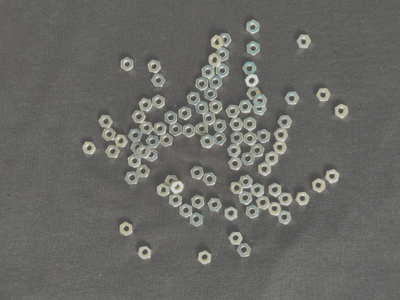nut: (325, 169, 340, 185), (335, 103, 349, 119), (296, 35, 312, 49), (316, 88, 331, 102), (285, 91, 300, 105), (295, 192, 310, 206), (258, 162, 272, 177), (278, 210, 292, 225), (246, 204, 260, 219), (251, 183, 265, 198), (239, 191, 253, 206), (253, 94, 268, 108), (253, 102, 268, 116), (241, 152, 256, 166), (237, 243, 252, 257), (209, 75, 223, 90), (170, 180, 185, 194), (121, 57, 135, 72), (125, 171, 140, 185), (275, 128, 289, 142), (279, 193, 293, 207), (268, 202, 282, 216), (257, 196, 271, 210), (240, 175, 254, 189), (257, 129, 271, 143), (226, 105, 240, 119), (229, 157, 243, 171), (187, 92, 201, 106), (208, 198, 222, 212), (191, 195, 205, 209), (169, 194, 183, 208), (160, 133, 174, 147), (138, 246, 152, 260), (146, 135, 160, 149), (140, 121, 154, 135), (137, 145, 151, 159), (313, 178, 326, 193), (273, 141, 288, 154), (266, 151, 279, 166), (269, 183, 282, 198), (230, 182, 245, 195), (247, 20, 260, 35), (247, 41, 260, 56), (245, 74, 260, 87), (244, 132, 257, 147), (244, 117, 257, 132), (209, 53, 222, 68), (196, 77, 209, 92), (202, 134, 215, 149), (170, 122, 183, 137), (199, 250, 212, 265), (190, 212, 203, 227), (180, 203, 193, 218), (120, 222, 133, 237), (151, 74, 166, 87), (128, 154, 141, 169), (102, 128, 117, 141), (99, 115, 114, 128), (82, 142, 97, 155), (243, 62, 257, 75), (247, 87, 261, 100), (251, 144, 265, 157), (239, 100, 253, 113), (230, 118, 244, 131), (231, 131, 244, 145), (228, 144, 242, 157), (225, 207, 238, 221), (229, 232, 243, 245), (219, 33, 232, 47), (216, 64, 229, 78), (202, 65, 215, 79), (205, 87, 218, 101), (210, 100, 223, 114), (213, 119, 227, 132), (213, 133, 227, 146), (203, 112, 216, 126), (196, 101, 209, 115), (179, 107, 192, 121), (203, 173, 217, 186), (191, 166, 204, 180), (148, 60, 162, 73), (140, 98, 153, 112), (133, 110, 147, 123), (154, 123, 168, 136), (129, 129, 143, 142), (145, 148, 158, 162), (131, 142, 145, 155), (137, 165, 151, 178), (115, 134, 128, 148), (106, 145, 120, 158), (278, 116, 293, 128), (212, 35, 224, 50), (217, 48, 229, 62), (196, 122, 208, 136), (184, 124, 196, 138), (165, 111, 177, 125), (158, 183, 170, 197), (153, 95, 165, 109), (165, 176, 178, 187)
